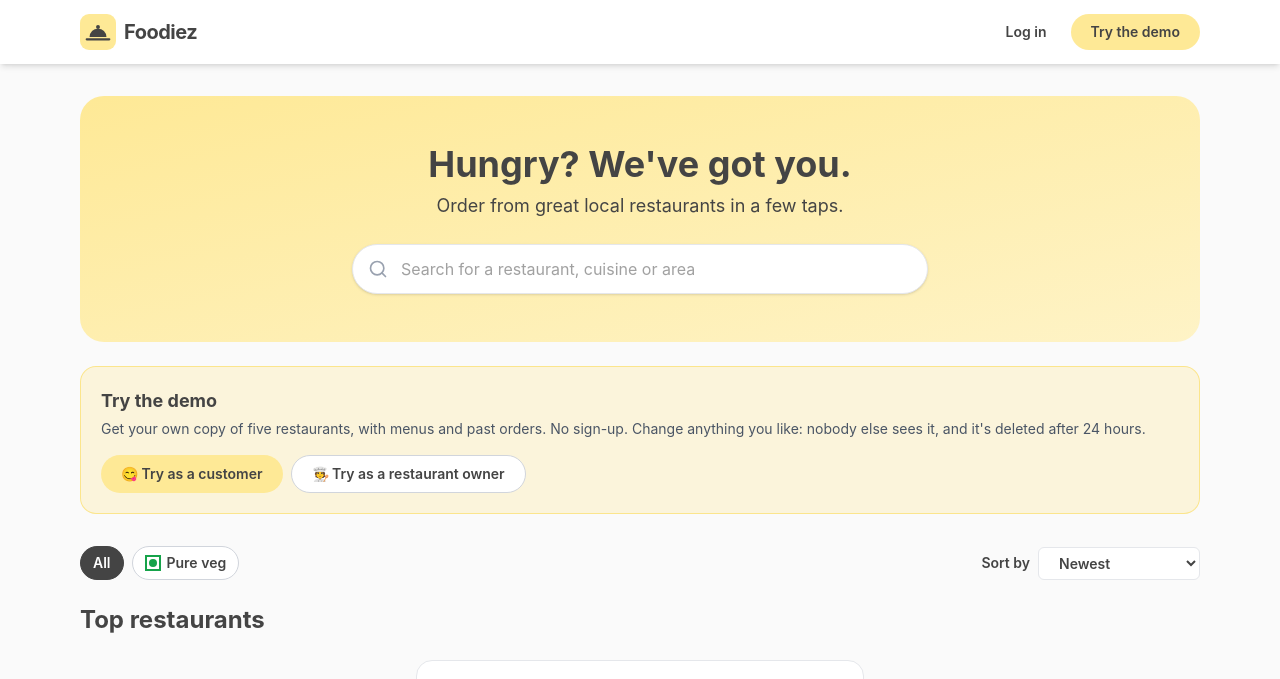
it: try the demo › starts a private demo as a customer from the home page
Click the button "😋 Try as a customer".
click(192, 474)  # box [101,455,282,493]
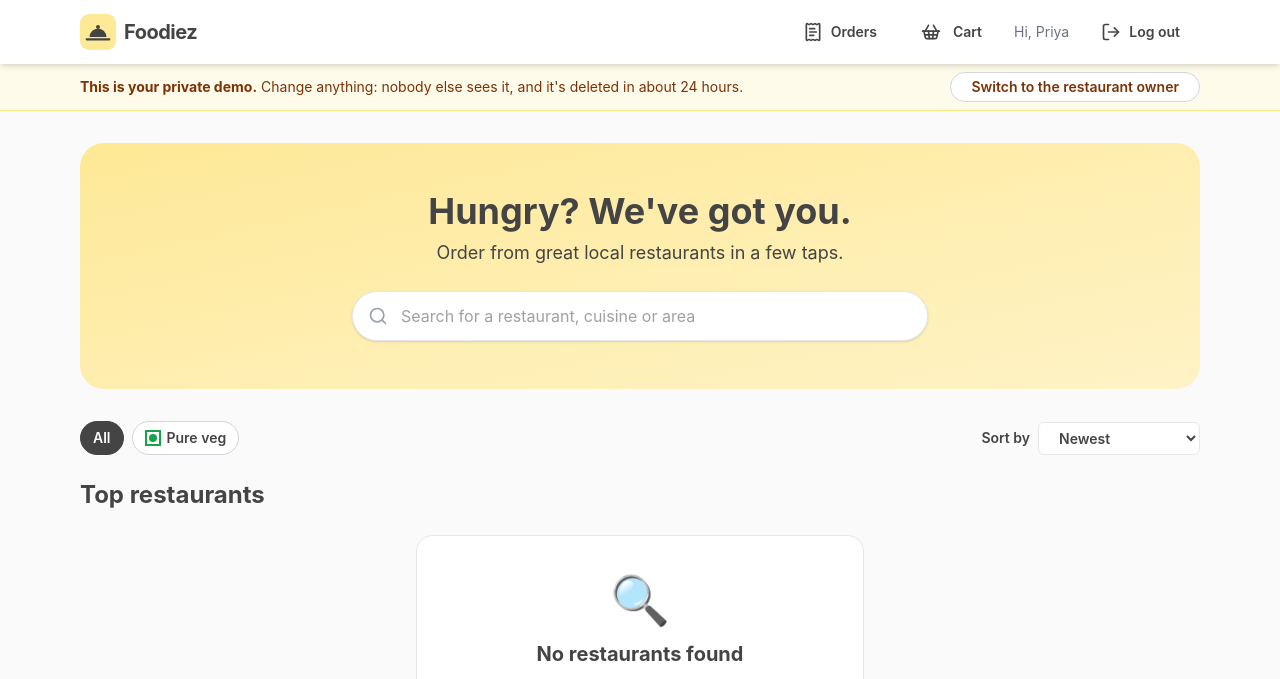
Now the text "Hi, Priya" is shown, box [1014,23,1069,40]
Now the text "This is your private demo." is shown, box [80,78,257,95]
Now the text "deleted in about 24 hours" is shown, box [80,78,743,95]
